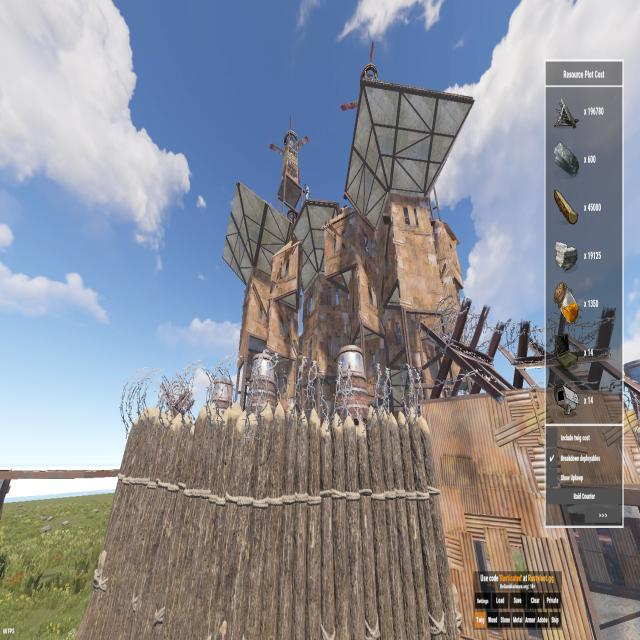Player: (302, 182, 312, 204)
